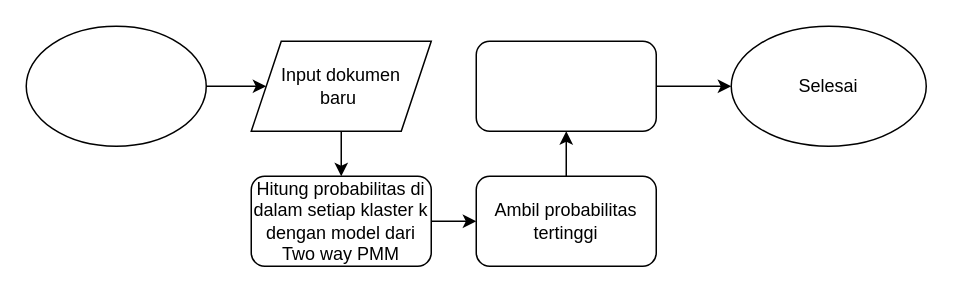
Image size: 953x293. Some labels were removed from this diagram. The shapes that lost their labels are listed below. From the top down, each one's centre as x and y in pixels, then its label:
At pixel 115 85: "Mulai".
At pixel 565 85: "Mencari rank T tertinggi dari klaster tersebut lalu urutkan".
